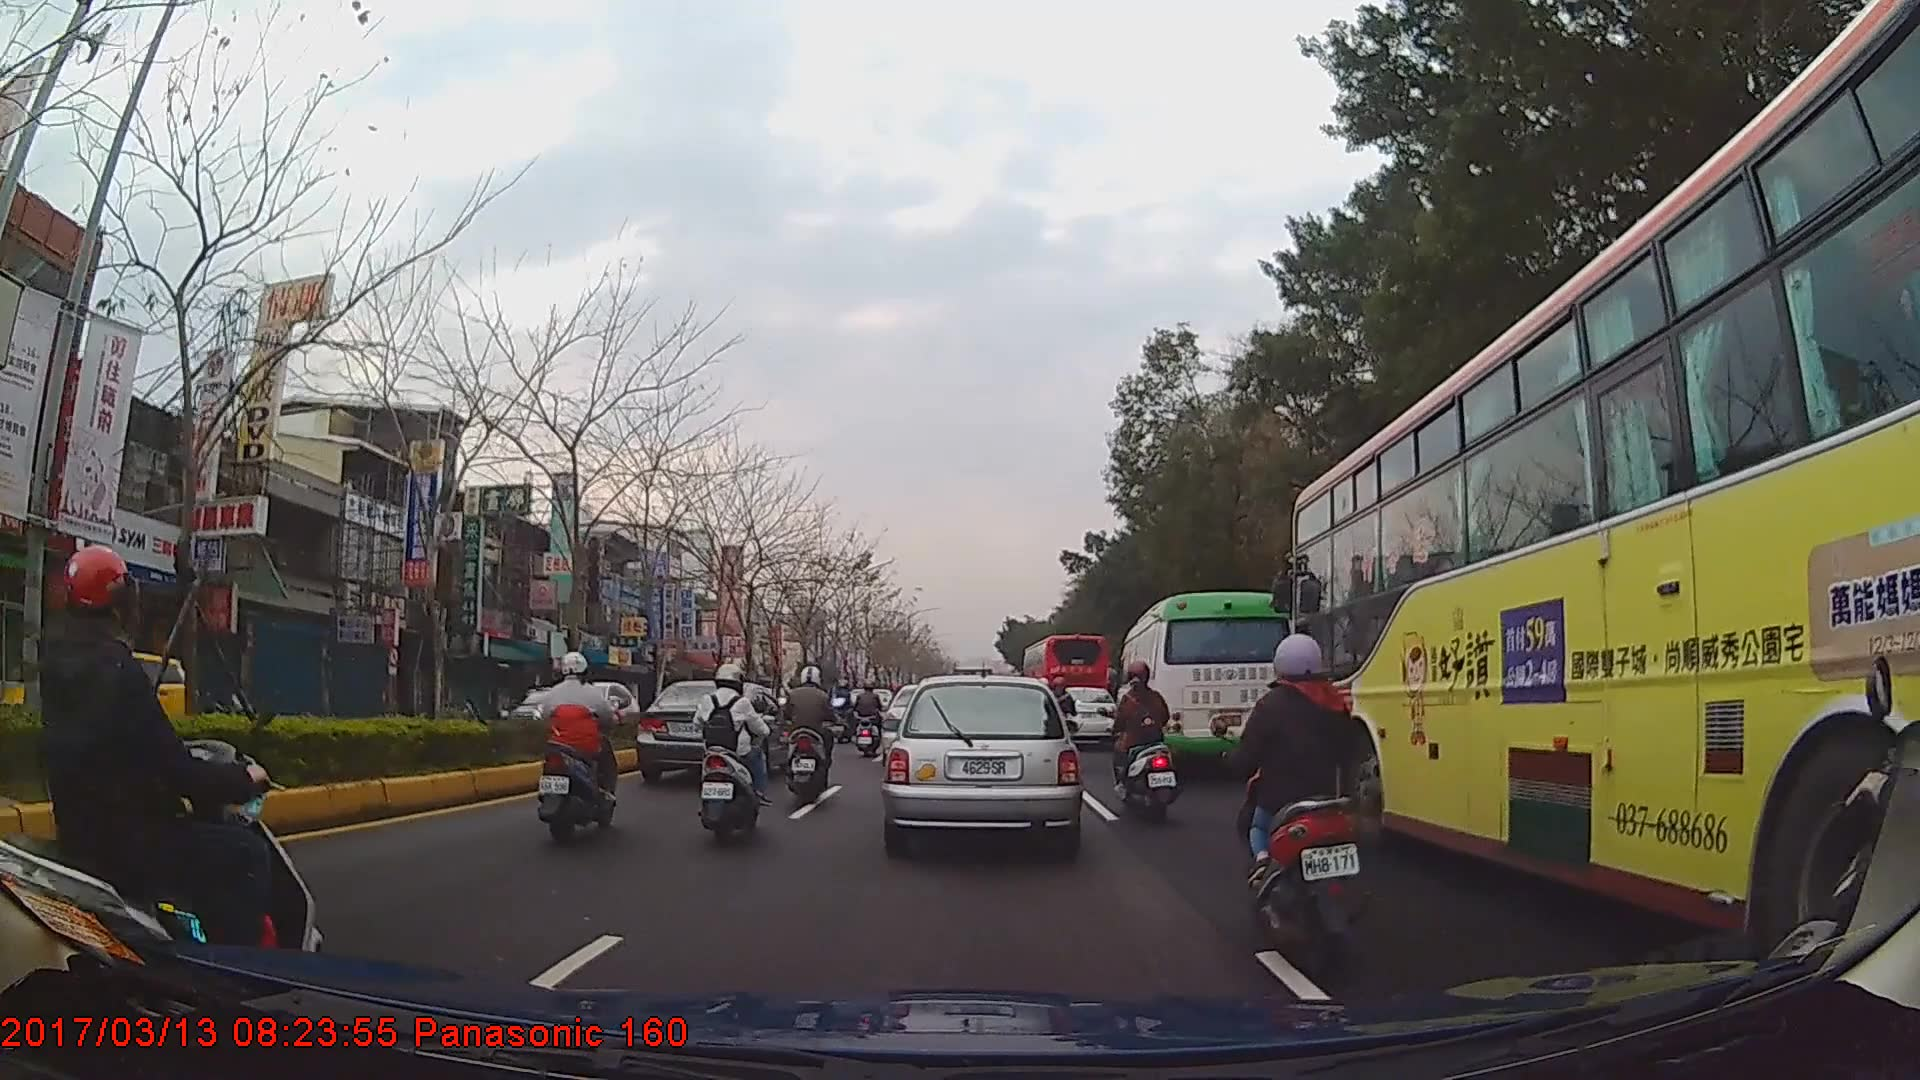rider: (1, 546, 329, 984), (1234, 630, 1369, 969), (541, 650, 623, 844), (691, 662, 768, 847), (1112, 662, 1178, 817), (780, 666, 845, 806), (852, 681, 888, 760), (835, 680, 858, 726)
vehicle: (1287, 0, 1920, 1019), (882, 670, 1083, 852), (1115, 590, 1295, 783), (634, 677, 793, 788), (1021, 632, 1109, 743)
